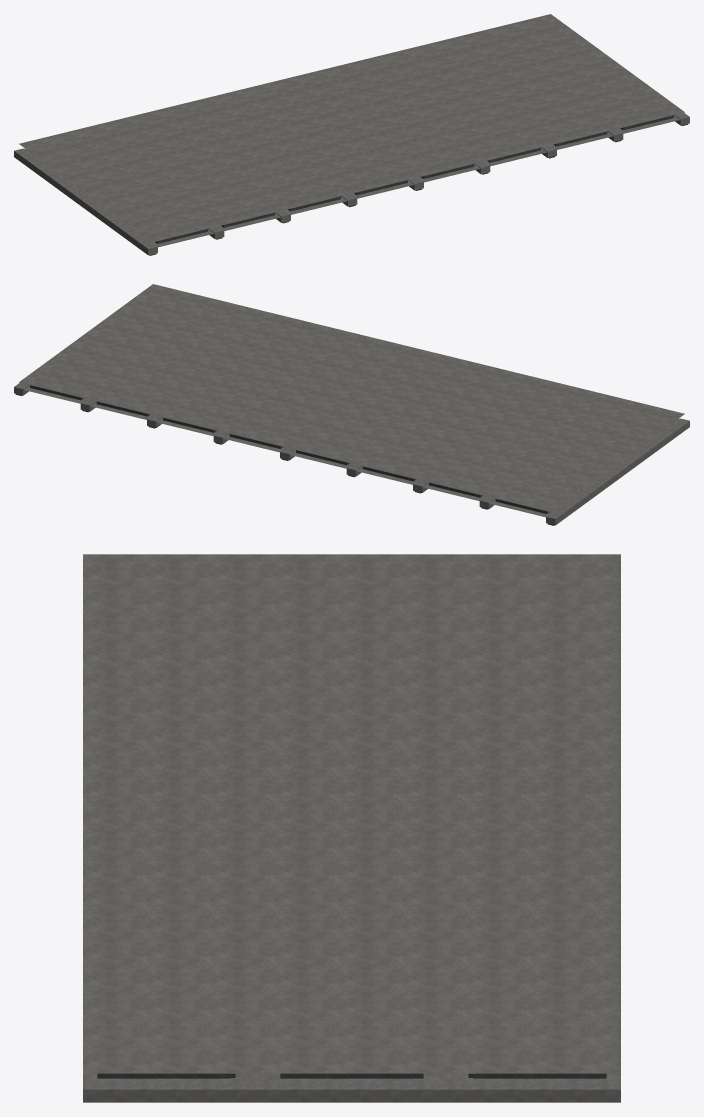
File: hall_ceiling.obj
3 renders of one model, top to bottom at view 1: azimuth 30°, elevation 25°; view 2: azimuth 150°, elevation 25°; view 3: azimuth 270°, elevation 25°, orthographic. The views are drawn at different scales.
Visible parts, largest first — view 1: hall_ceiling; view 2: hall_ceiling; view 3: hall_ceiling.
Boxes of the visible parts, x1,y1,x2,y2 form: hall_ceiling: (14, 14, 689, 255); hall_ceiling: (14, 284, 689, 525); hall_ceiling: (83, 554, 620, 1102).
Size of the model in its own units: 48.85 by 1.12 by 21.
